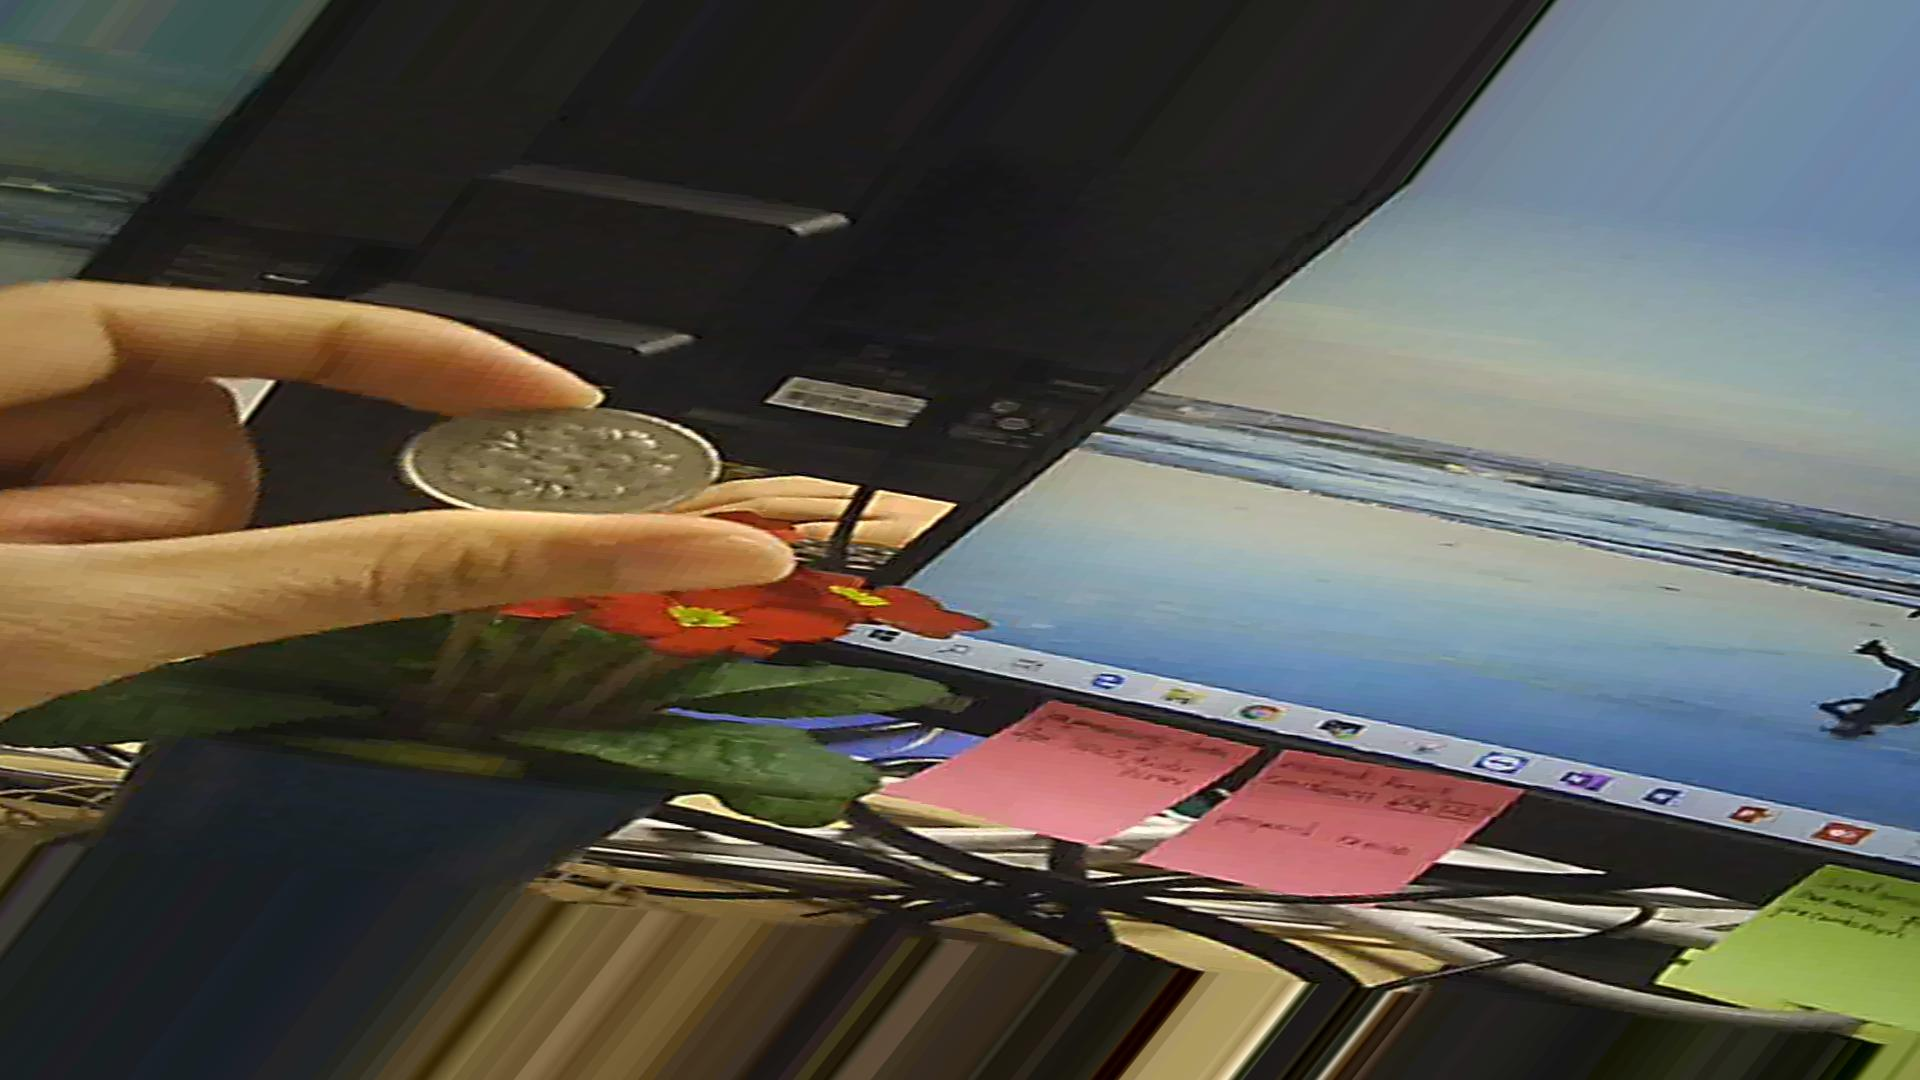100 Yen: (401, 393, 711, 530)
